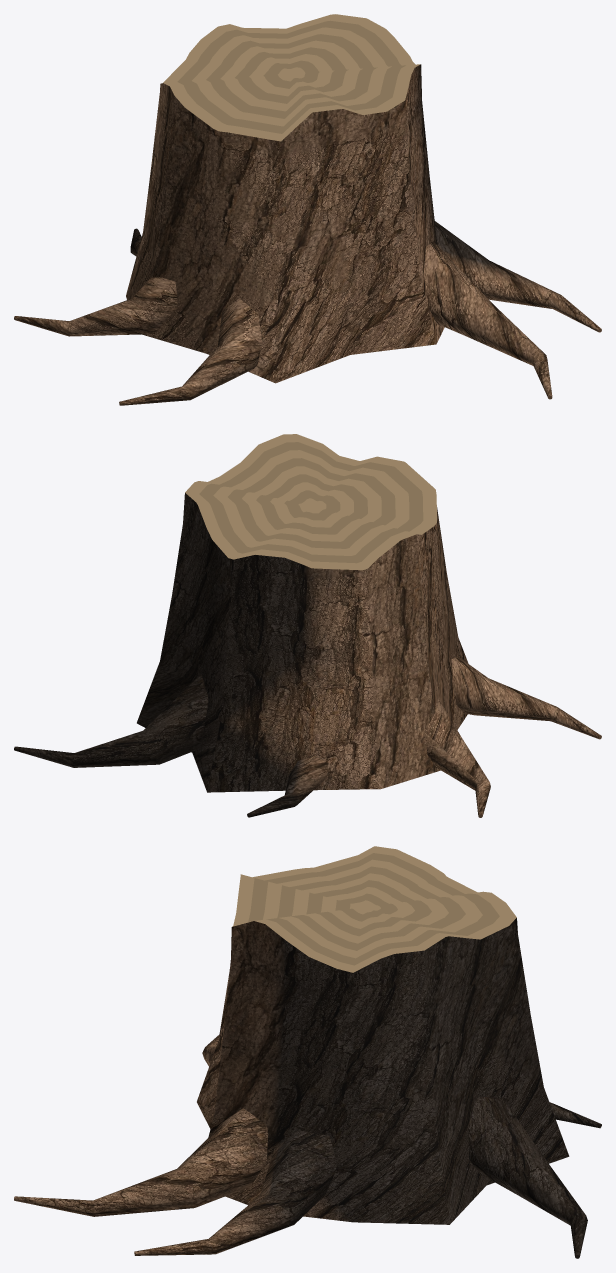
The model's file is corealm_stump_wilderness_teak.glb.
3 views of the same model, one above another, from view 1: azimuth 30°, elevation 25°; view 2: azimuth 150°, elevation 25°; view 3: azimuth 270°, elevation 25° (orthographic). The views are drawn at different scales.
Visible parts, largest first — view 1: corealm_stump_wilderness_teak; view 2: corealm_stump_wilderness_teak; view 3: corealm_stump_wilderness_teak.
Part boxes in pixels (x1,y1,x2,y2): corealm_stump_wilderness_teak: (14,14,601,405); corealm_stump_wilderness_teak: (14,434,601,817); corealm_stump_wilderness_teak: (14,846,601,1258).
Bounding box in the file's own units: 0.872 × 0.472 × 0.9421.
2 materials, 1 textured.
